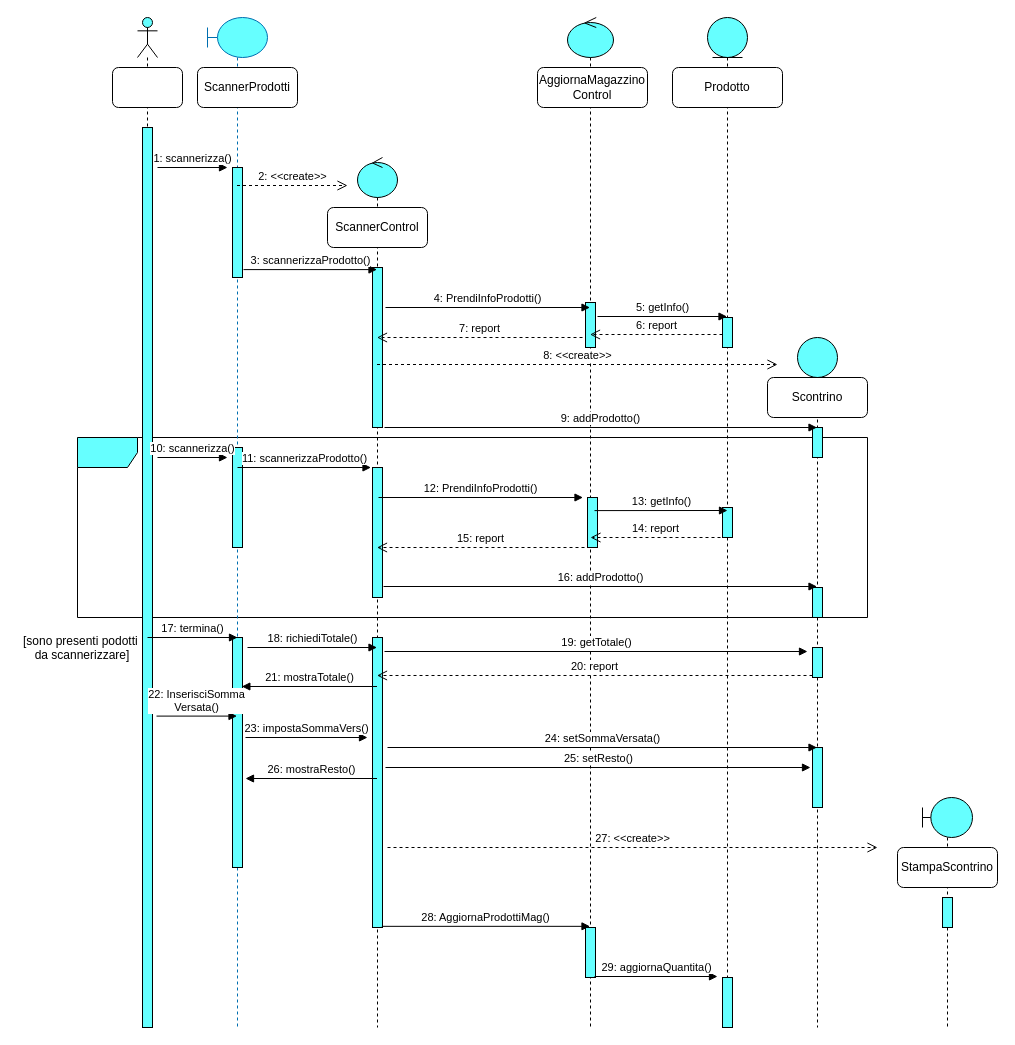
This 1015x1045 diagram has some shape labels left out. The box of each missing label's shape, as (x1, y1, x2, y2) in pixels:
Cassiere: (112, 66, 182, 108)
Loop: (76, 436, 868, 618)
